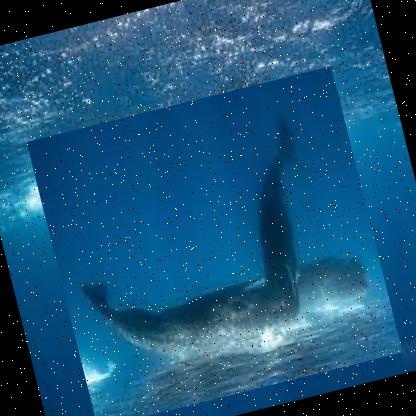sperm_whale: (27, 66, 405, 415), (194, 92, 360, 364)
